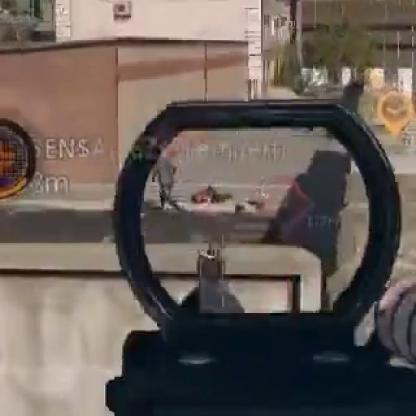enemy: (150, 158, 178, 209)
